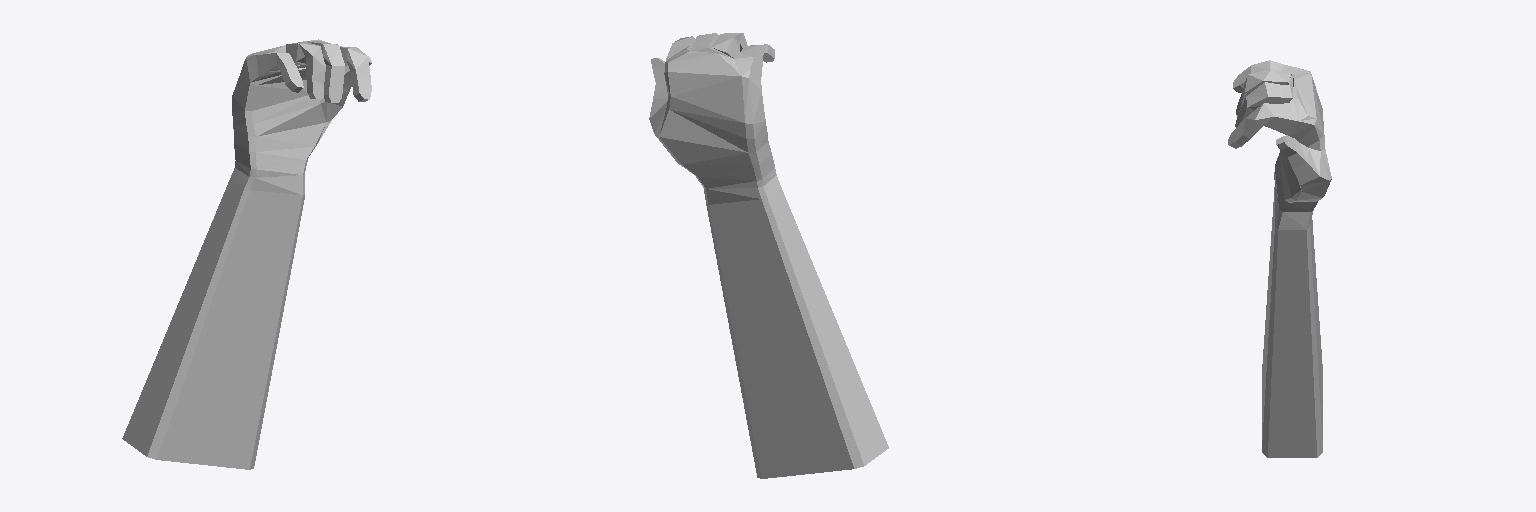
File: hand_anim20.obj
3 views of the same model, side by side, from view 1: azimuth 30°, elevation 25°; view 2: azimuth 150°, elevation 25°; view 3: azimuth 270°, elevation 25° (orthographic).
Visible parts, largest first — view 1: Cube.001; view 2: Cube.001; view 3: Cube.001.
Boxes of the visible parts, x1=… form: Cube.001: x1=122, y1=39, x2=371, y2=469; Cube.001: x1=649, y1=33, x2=888, y2=478; Cube.001: x1=1228, y1=60, x2=1331, y2=457.
Bounding box in the file's own units: 1.68 × 2.88 × 0.66.